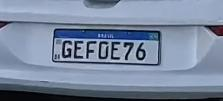Placa_mercosul_carro: (52, 28, 161, 65)
